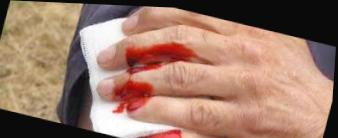Fire: (126, 40, 204, 73), (113, 75, 156, 111), (135, 128, 185, 138)
